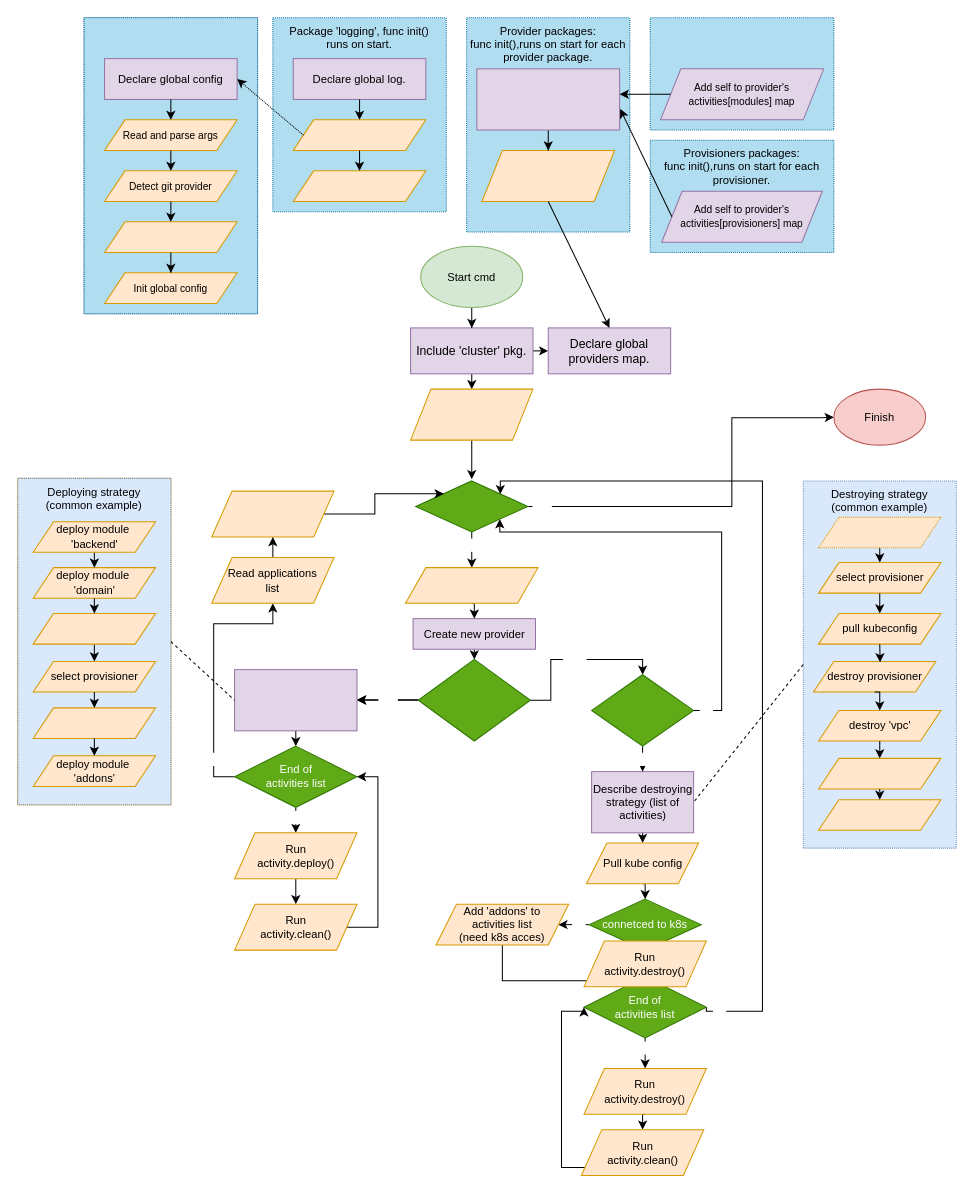
The diagram is 974 pixels wide and 1193 high, and some of its shapes have lost their labels. Here are the shapes that lost their labels. From the top down, the box of each, then its label:
(649, 17, 834, 130): Modules packages: func init(),runs on start for each module.
(476, 68, 620, 130): Declare activities map: modules and provisioners
(292, 119, 426, 150): Read configuration from global config
(83, 17, 258, 314): Package 'config', func init() runs on start.
(292, 170, 426, 201): Init logging driver
(481, 149, 615, 201): Add self to provider's map in package 'cluster'
(104, 221, 237, 252): Detect project root dir
(410, 388, 533, 440): Read cluster's manifests files to list
(211, 490, 334, 537): Deploy applications
(415, 480, 528, 532): End of clusters list?
(818, 516, 941, 548): destroy 'addons' (if connected to k8s)
(404, 567, 538, 603): Read, parse, check config.
(32, 613, 156, 644): deploy module 'vpc'
(234, 669, 357, 731): Describe deploying strategy (array of activities)
(417, 658, 530, 741): cluster.installed (bool)
(591, 674, 694, 746): remote state exists
(32, 707, 156, 738): deploy provisioner
(818, 757, 941, 789): destroy 'domains'
(818, 799, 941, 830): destroy 'backend'
